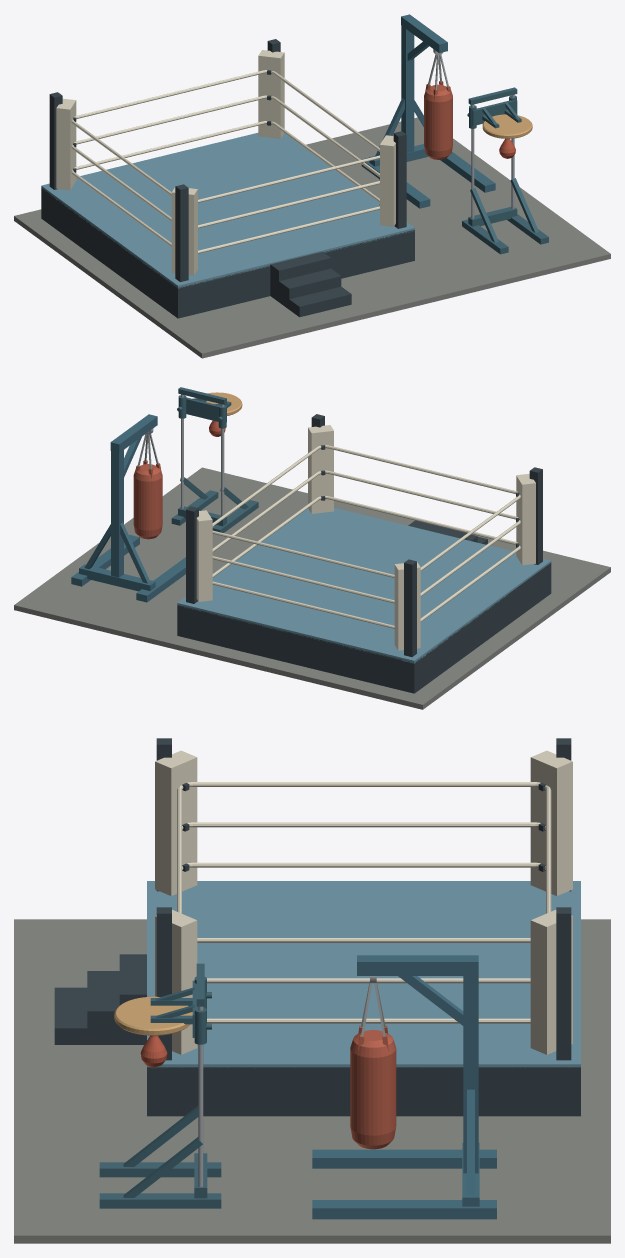
3 views of the same model, one above another, from view 1: azimuth 30°, elevation 25°; view 2: azimuth 150°, elevation 25°; view 3: azimuth 270°, elevation 25° (orthographic). The views are drawn at different scales.
Visible parts, largest first — view 1: SceneOnlyBoxingWorkcornerFloor, WholeRecessFreeCanvasDeck, WholeRaisedPlatformGroundSole, WholeThreeTreadAccessStairGroundSole, WholeContinuousFourCornerRope_2, WholeContinuousFourCornerRope_1, WholeContinuousFourCornerRope_0, WholeInsideCornerPad_2, WholeLongShoulderedTrainingBag, WholeInsideCornerPad_3, WholeRearOffsetUpright, WholeInsideCornerPad_1 (+11 smaller); view 2: WholeRecessFreeCanvasDeck, SceneOnlyBoxingWorkcornerFloor, WholeRaisedPlatformGroundSole, WholeContinuousFourCornerRope_2, WholeContinuousFourCornerRope_1, WholeContinuousFourCornerRope_0, WholeLongShoulderedTrainingBag, WholeInsideCornerPad_1, WholeInsideCornerPad_0, WholeRearOffsetUpright, WholeInsideCornerPad_2, WholeCornerPost_3 (+11 smaller); view 3: SceneOnlyBoxingWorkcornerFloor, WholeRecessFreeCanvasDeck, WholeRaisedPlatformGroundSole, WholeThreeTreadAccessStairGroundSole, WholeLongShoulderedTrainingBag, WholeInsideCornerPad_0, WholeInsideCornerPad_3, WholeContinuousFourCornerRope_2, WholeInsideCornerPad_2, WholeContinuousFourCornerRope_0, WholeContinuousFourCornerRope_1, RightWholeGroundSkid (+14 smaller).
Boxes of the visible parts, bbox=[...] form: SceneOnlyBoxingWorkcornerFloor: bbox=[14, 117, 610, 358]; WholeRecessFreeCanvasDeck: bbox=[41, 133, 414, 288]; WholeRaisedPlatformGroundSole: bbox=[41, 188, 414, 318]; WholeThreeTreadAccessStairGroundSole: bbox=[270, 252, 351, 317]; WholeContinuousFourCornerRope_2: bbox=[71, 70, 379, 202]; WholeContinuousFourCornerRope_1: bbox=[71, 95, 379, 228]; WholeContinuousFourCornerRope_0: bbox=[71, 121, 379, 253]; WholeInsideCornerPad_2: bbox=[258, 50, 284, 138]; WholeLongShoulderedTrainingBag: bbox=[424, 84, 452, 159]; WholeInsideCornerPad_3: bbox=[56, 98, 76, 190]; WholeRearOffsetUpright: bbox=[401, 26, 414, 152]; WholeInsideCornerPad_1: bbox=[380, 135, 395, 226]; WholeRecessFreeCanvasDeck: bbox=[177, 507, 551, 663]; SceneOnlyBoxingWorkcornerFloor: bbox=[14, 467, 610, 709]; WholeRaisedPlatformGroundSole: bbox=[177, 563, 551, 693]; WholeContinuousFourCornerRope_2: bbox=[212, 445, 520, 577]; WholeContinuousFourCornerRope_1: bbox=[212, 470, 520, 603]; WholeContinuousFourCornerRope_0: bbox=[212, 496, 520, 628]; WholeLongShoulderedTrainingBag: bbox=[133, 464, 162, 539]; WholeInsideCornerPad_1: bbox=[308, 425, 333, 513]; WholeInsideCornerPad_0: bbox=[516, 473, 535, 565]; WholeRearOffsetUpright: bbox=[111, 447, 123, 577]; WholeInsideCornerPad_2: bbox=[196, 510, 212, 601]; WholeCornerPost_3: bbox=[404, 559, 416, 656]; SceneOnlyBoxingWorkcornerFloor: bbox=[14, 919, 610, 1243]; WholeRecessFreeCanvasDeck: bbox=[147, 881, 580, 1067]; WholeRaisedPlatformGroundSole: bbox=[147, 1067, 580, 1116]; WholeThreeTreadAccessStairGroundSole: bbox=[54, 954, 146, 1044]; WholeLongShoulderedTrainingBag: bbox=[350, 1030, 396, 1149]; WholeInsideCornerPad_0: bbox=[155, 750, 197, 895]; WholeInsideCornerPad_3: bbox=[530, 750, 572, 895]; WholeContinuousFourCornerRope_2: bbox=[177, 782, 551, 942]; WholeInsideCornerPad_2: bbox=[530, 910, 572, 1054]; WholeContinuousFourCornerRope_0: bbox=[182, 862, 545, 1023]; WholeContinuousFourCornerRope_1: bbox=[182, 822, 545, 983]; RightWholeGroundSkid: bbox=[312, 1200, 496, 1219].
Bounding box in the file's own units: 6.9 × 2.43 × 5.5.
